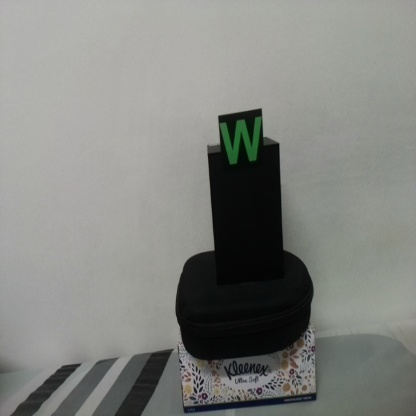id_12: (218, 114, 266, 175)
